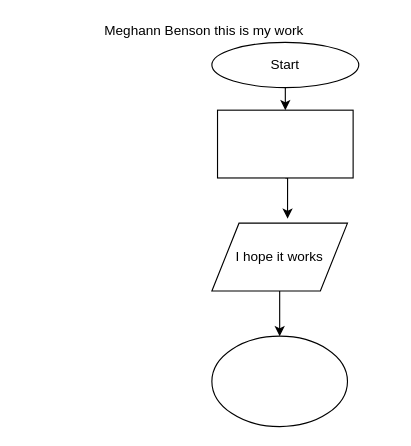
Image size: 411x446. Some labels were removed from this diagram. Each missing label, with the centre of its shape:
"Stop" belongs at (279,381).
"This is a test" belongs at (284,143).
